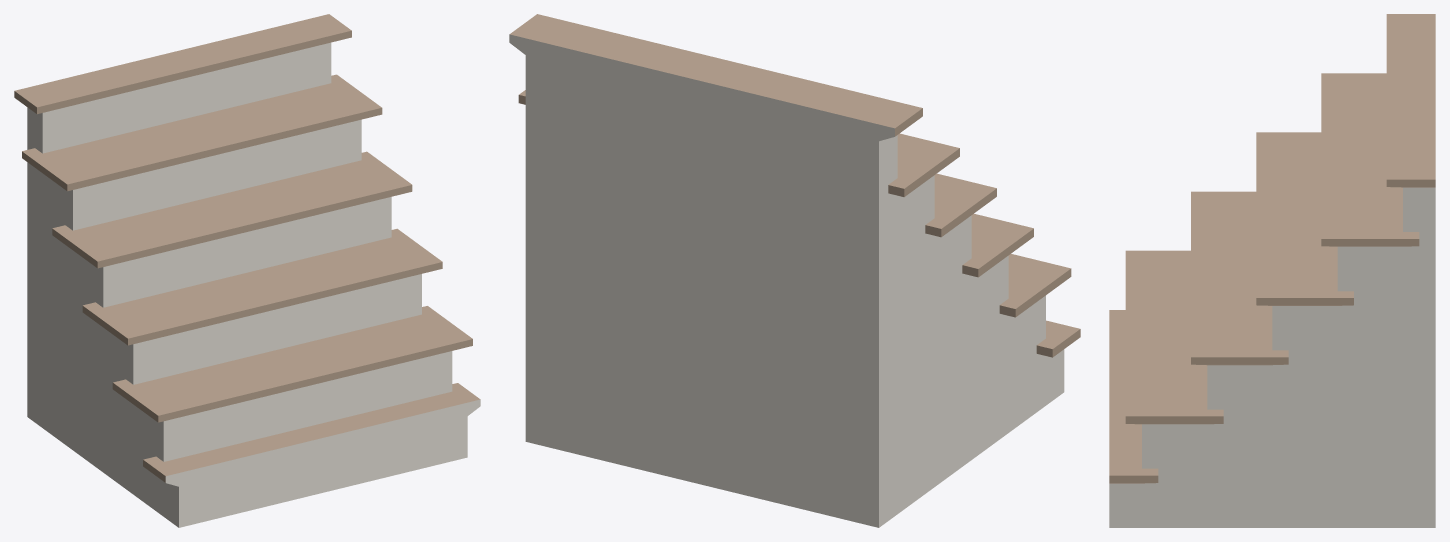
Rendered from Structure_Stairs_Straight.glb.
The picture shows the model from 3 angles, left to right: view 1: azimuth 30°, elevation 25°; view 2: azimuth 150°, elevation 25°; view 3: azimuth 270°, elevation 25°; orthographic projection. The views are drawn at different scales.
Parts seen in each view (by area): view 1: Structure_Stairs_Straight; view 2: Structure_Stairs_Straight; view 3: Structure_Stairs_Straight.
Part boxes in pixels (x1,y1,x2,y2): Structure_Stairs_Straight: (14, 14, 480, 527); Structure_Stairs_Straight: (509, 14, 1080, 527); Structure_Stairs_Straight: (1109, 14, 1435, 527).
Size of the model in its own units: 1.2 by 1.2 by 1.
